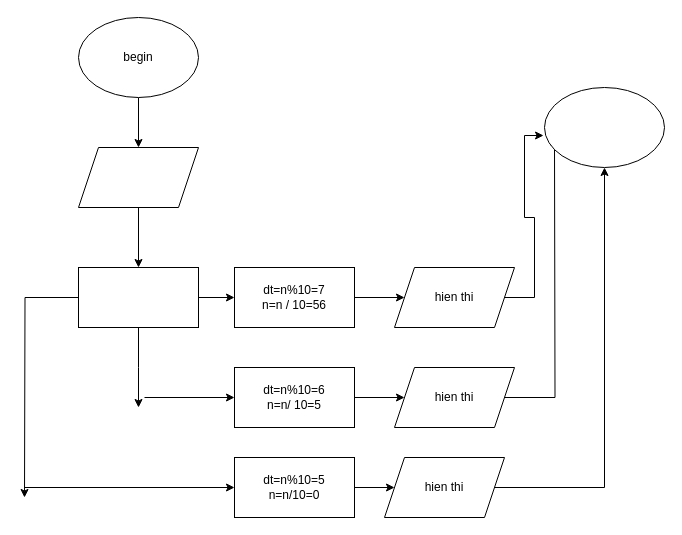
The diagram is 682 pixels wide and 535 high, and some of its shapes have lost their labels. The shapes that lost their labels are listed below. From the top down, each one's centre as x and y in pixels, then its label:
the point at 604,127: end
the point at 138,177: nhap 567
the point at 138,297: n=567
